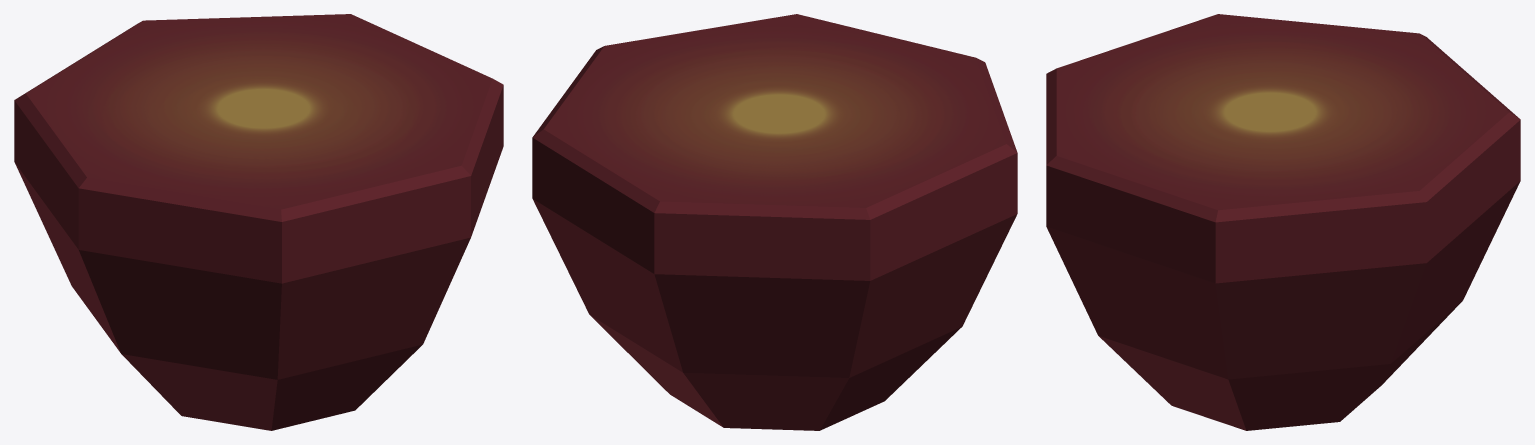
The model's file is cut_grape.fbx.
3 views of the same model, side by side, from view 1: azimuth 30°, elevation 25°; view 2: azimuth 150°, elevation 25°; view 3: azimuth 270°, elevation 25° (orthographic).
Visible parts, largest first — view 1: 円.003; view 2: 円.003; view 3: 円.003.
Part boxes in pixels (x1,y1,x2,y2): 円.003: (14, 14, 503, 430); 円.003: (532, 14, 1017, 430); 円.003: (1046, 14, 1520, 430).
Size of the model in its own units: 4.87 by 3.19 by 4.75.
